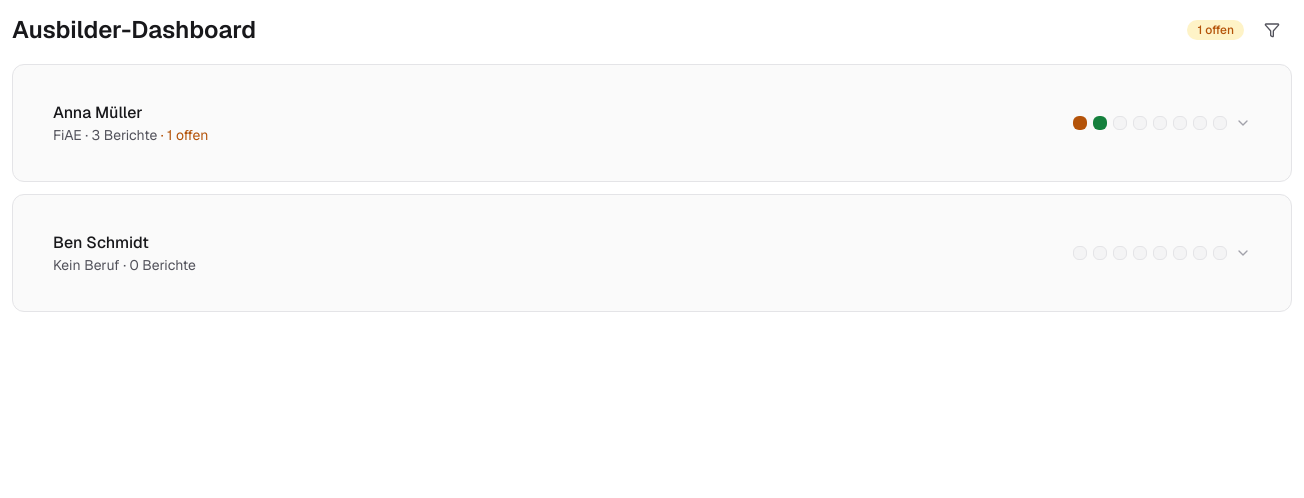
Test: ReviewerDashboardClient › expands trainee on click showing submitted reports first
What coordinates should you click on to do the following:
click the text "Anna Müller"
I would click on:
 (98, 112)
Its box is 53,102 -> 142,123.
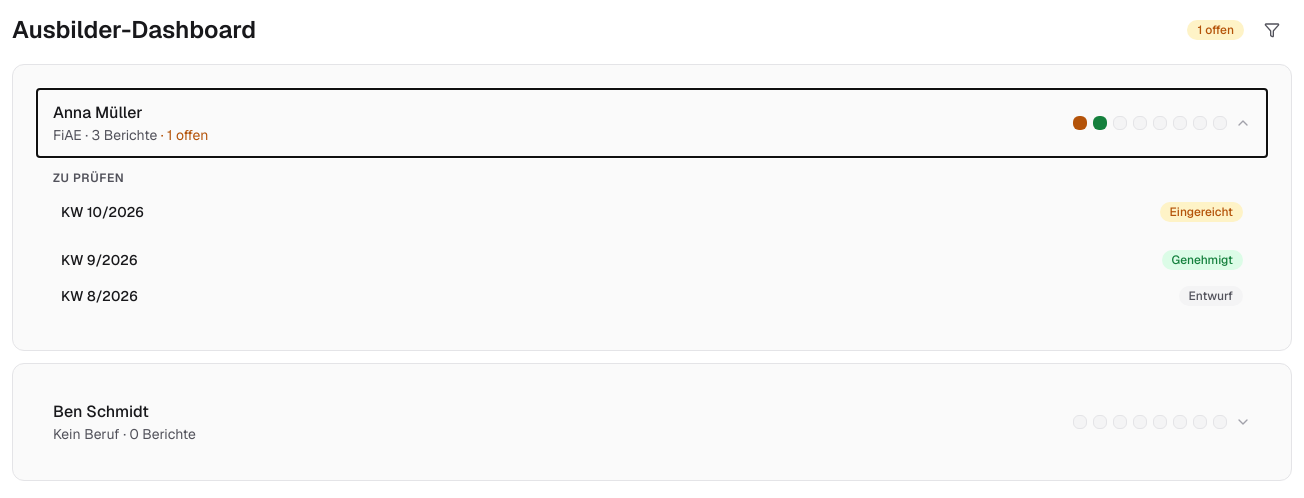
Check: the text "Zu prüfen" is shown, box 53,170 -> 124,186
Check: the text "KW 10/2026" is shown, box 61,202 -> 144,222
